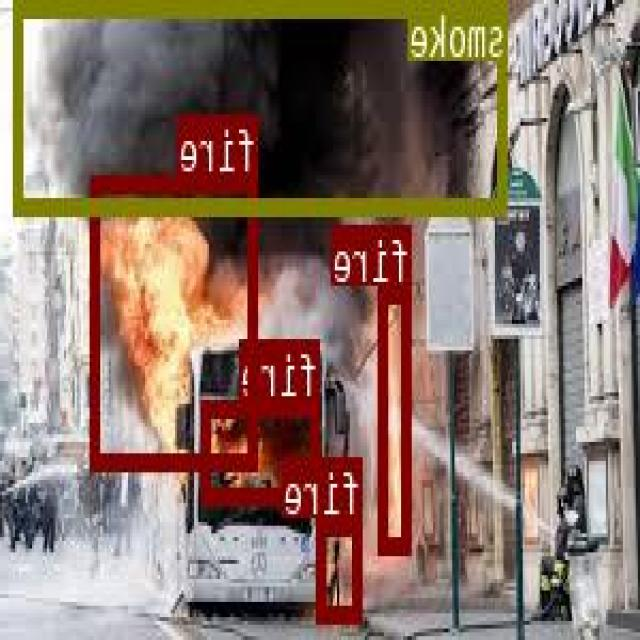fire: (92, 172, 258, 466), (204, 398, 321, 502), (381, 284, 414, 552), (318, 514, 364, 618)
smoke: (17, 0, 508, 210)
